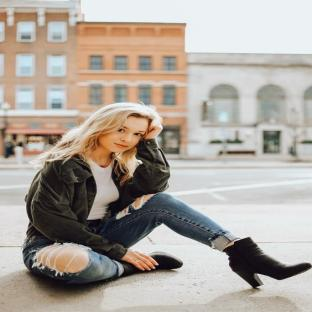Human: (23, 102, 311, 287)
